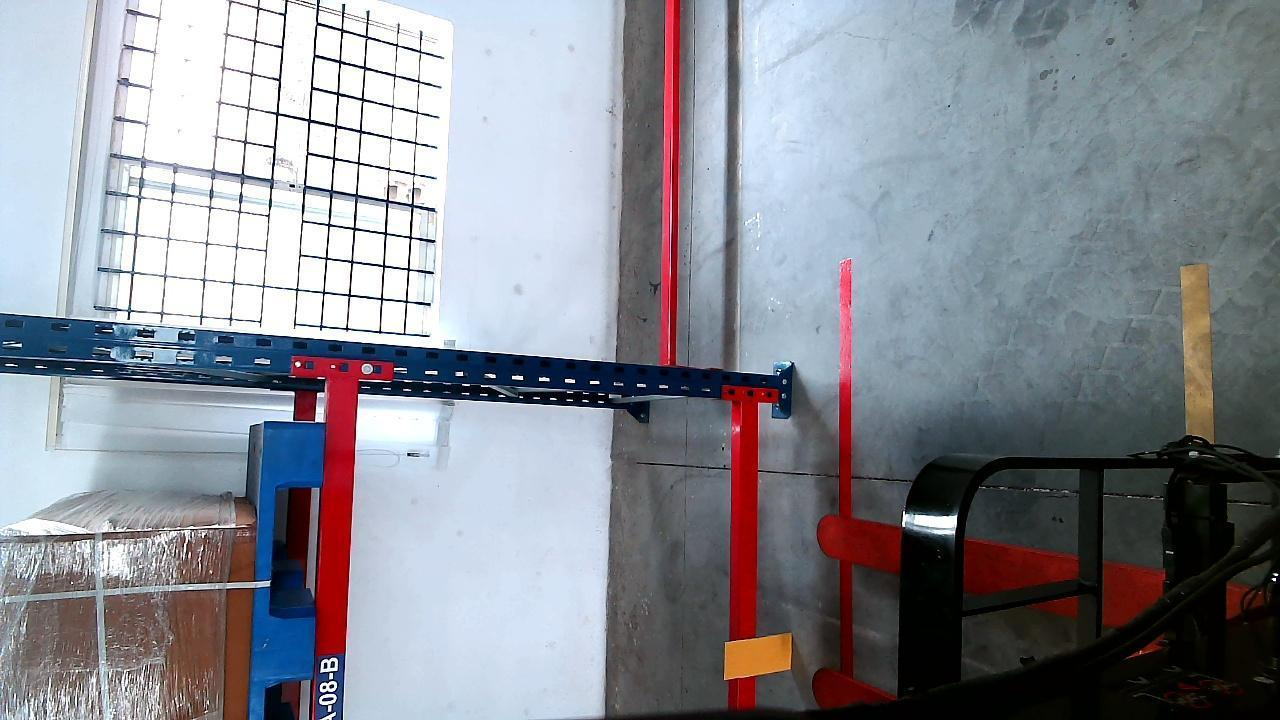h_rack: (315, 378, 362, 720), (730, 401, 760, 709)
orange_strip: (725, 632, 795, 680)
red_line: (838, 255, 856, 672)
small_pallet: (248, 415, 322, 720)
yellow_line: (1184, 257, 1215, 439)
